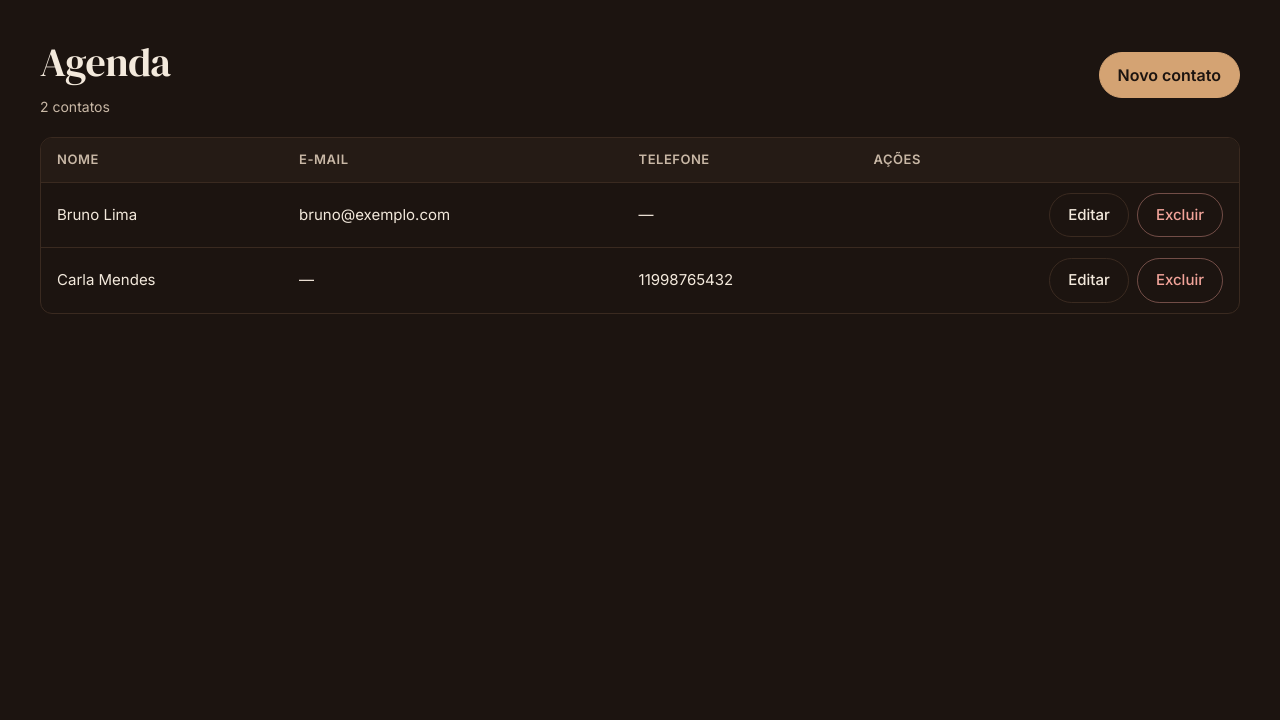
it: ContactsPage › ContactsPage_DeleteCancelled_KeepsContact
Click the button with aria-label "Excluir Bruno Lima": (1180, 215) [1137,192,1223,237]
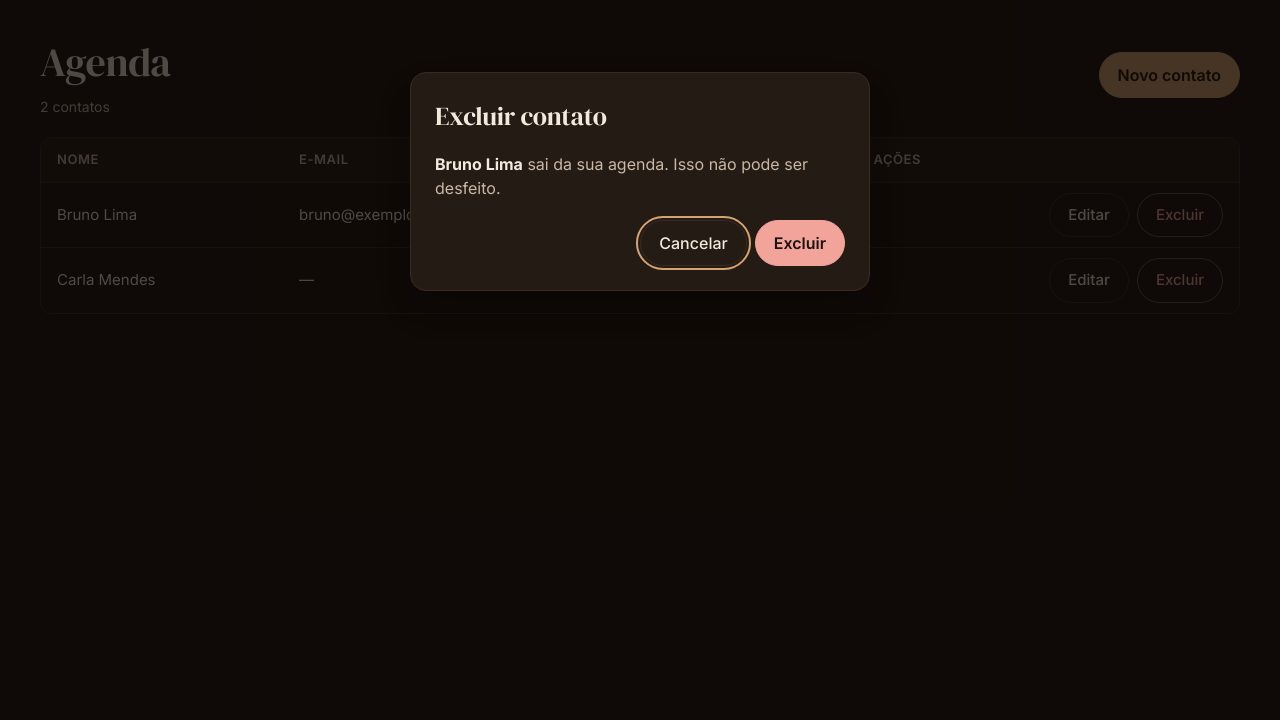
Click the button "Cancelar": (694, 243) [640,220,747,266]
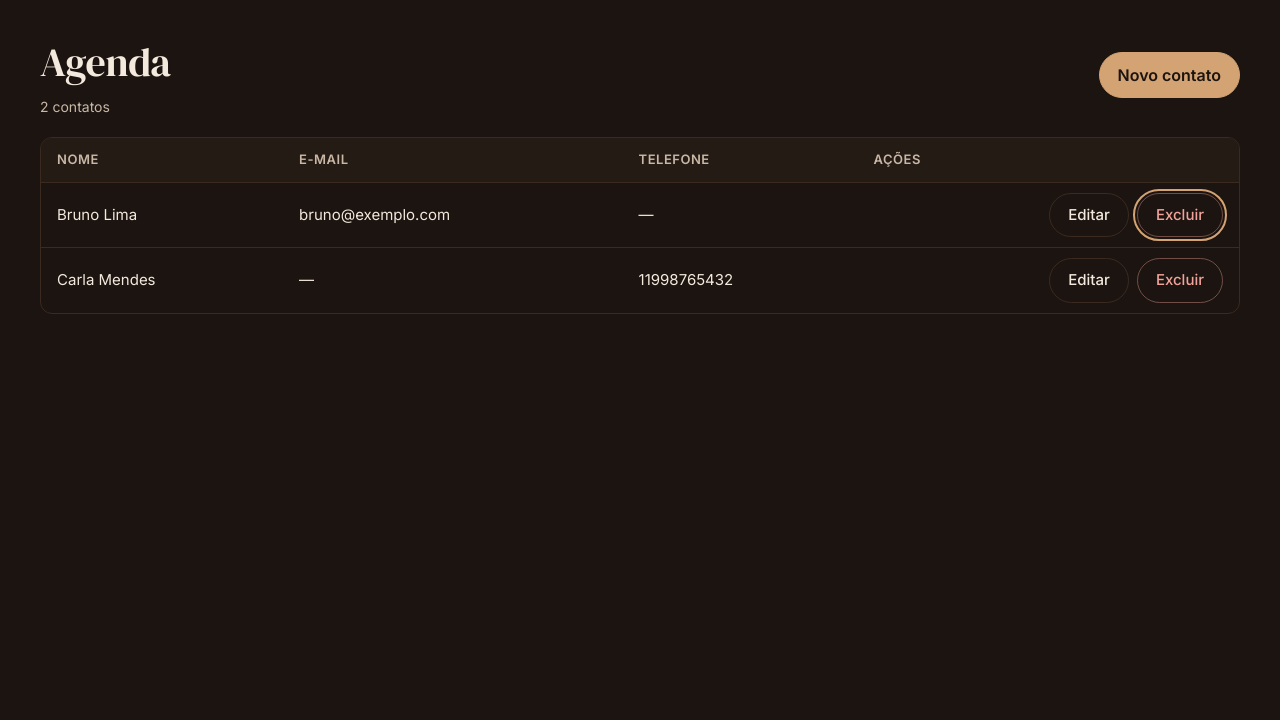
Expected: the text "Bruno Lima" is shown, [41,182,283,248]
Expected: the dialog is gone
